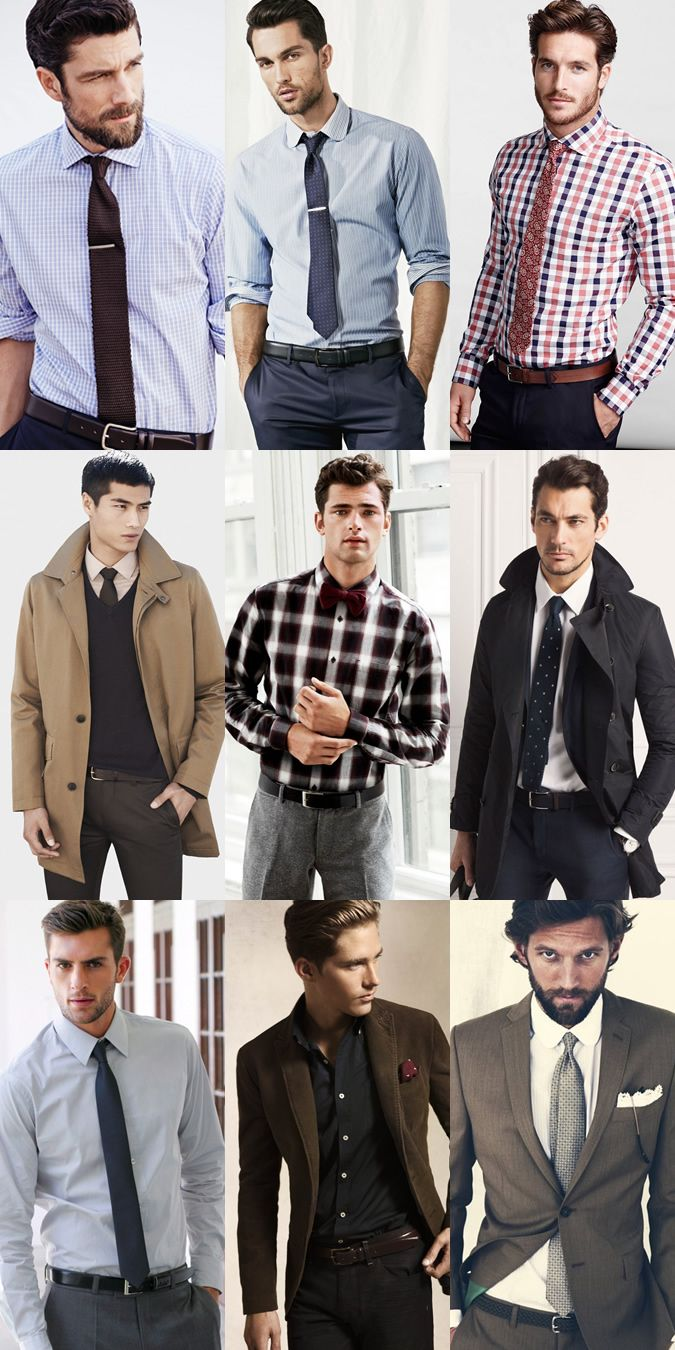F_M_suit jacket: (458, 986, 675, 1337)
F_belt: (6, 373, 199, 447), (473, 1268, 606, 1334), (34, 1250, 205, 1301), (467, 349, 634, 401), (257, 760, 388, 816), (249, 335, 409, 375), (64, 744, 173, 793), (493, 776, 620, 813)
F_shirt: (1, 1009, 233, 1288), (233, 109, 456, 372)
F_tie: (75, 1039, 162, 1271), (68, 160, 145, 414), (293, 131, 362, 347), (504, 140, 564, 350), (510, 595, 575, 784), (538, 1033, 590, 1204)
